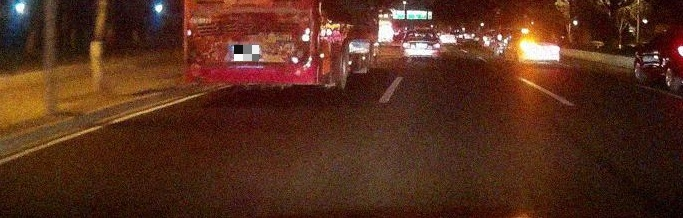L_light: (520, 42, 534, 50), (402, 42, 411, 49)
R_light: (552, 45, 561, 53), (432, 43, 440, 50)
T_light: (536, 30, 544, 32), (418, 29, 425, 31)
night-left: (517, 28, 561, 64)
night-no: (400, 28, 441, 60)
plate_1: (234, 45, 259, 61)
